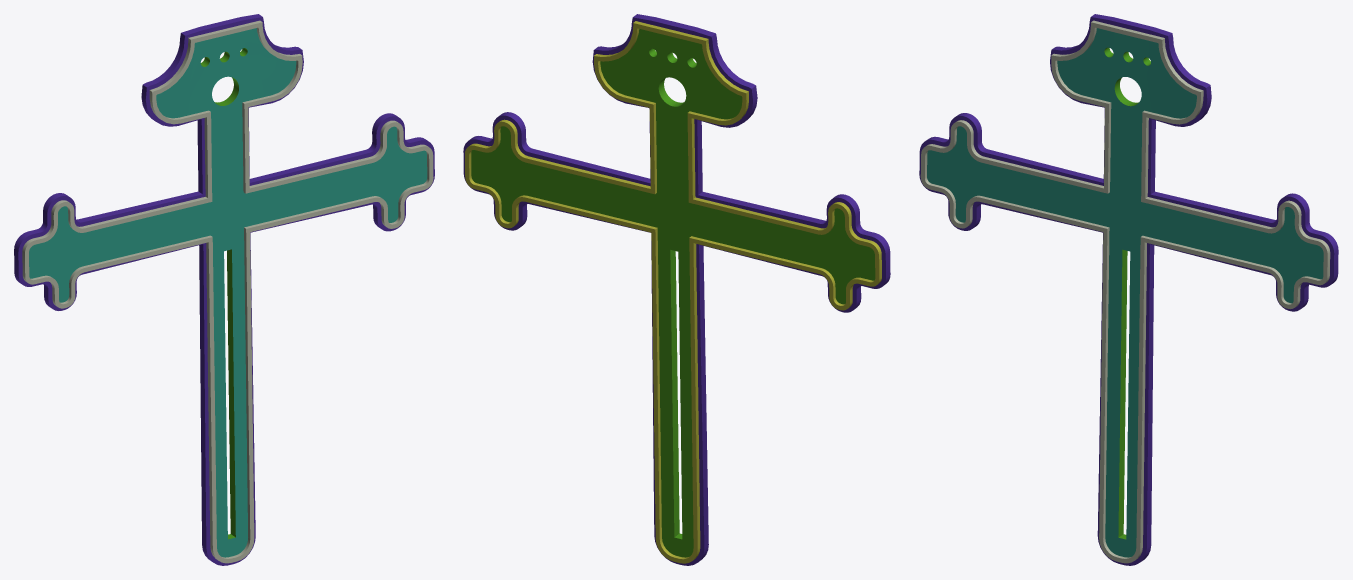
File: Misc_09_Cross.fbx
The picture shows the model from 3 angles, left to right: view 1: azimuth 30°, elevation 25°; view 2: azimuth 150°, elevation 25°; view 3: azimuth 330°, elevation 25°; orthographic projection.
Visible parts, largest first — view 1: SetA_Misc_09_Cross; view 2: SetA_Misc_09_Cross; view 3: SetA_Misc_09_Cross.
Boxes of the visible parts, box(x1,y1,x2,y2) form: SetA_Misc_09_Cross: box(14, 14, 434, 565); SetA_Misc_09_Cross: box(463, 14, 890, 565); SetA_Misc_09_Cross: box(919, 14, 1338, 565).
Bounding box in the file's own units: 0.1036 × 0.1274 × 0.00724.
